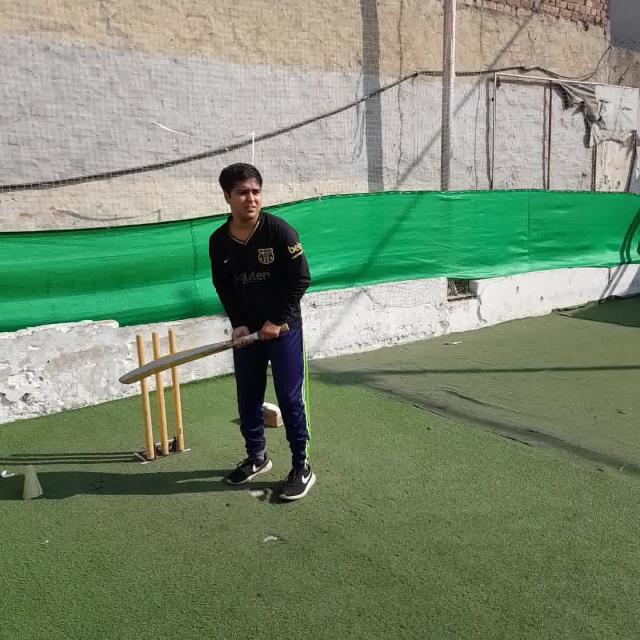bat: (119, 320, 288, 385)
